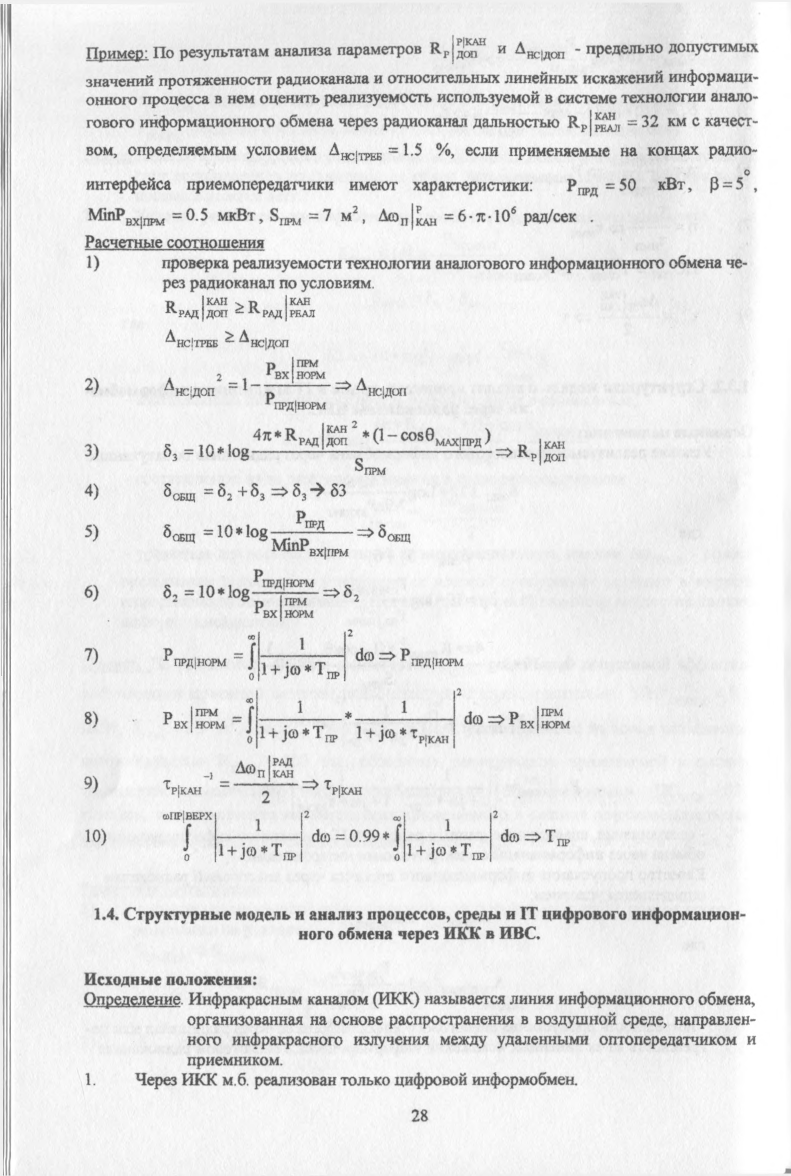P.вх.прм: (299, 538, 345, 554)
P.вх.прм.норм: (159, 699, 228, 733), (260, 354, 331, 383), (253, 596, 316, 619)
P.прд: (292, 509, 331, 529)
P.прд.норм: (157, 636, 230, 669), (253, 564, 317, 589), (260, 392, 326, 414)
R.р.кан.доп: (289, 423, 347, 448)
S.прм: (351, 456, 391, 479)
T.пр: (270, 841, 300, 865), (312, 721, 340, 746), (462, 840, 488, 863), (314, 658, 339, 681)
Δ.нс.доп: (164, 377, 216, 400)
Δω.п.р.кан: (229, 750, 299, 779)
δ.2: (154, 581, 181, 609), (212, 479, 237, 506)
δ.3: (153, 436, 180, 464), (248, 478, 268, 508)
δ.общ: (157, 476, 200, 504), (157, 519, 198, 548)
θ.max.прд: (423, 422, 482, 450)
τ.р.кан: (158, 772, 207, 798), (411, 726, 450, 746)
ω.пр.верх: (160, 805, 214, 822)
